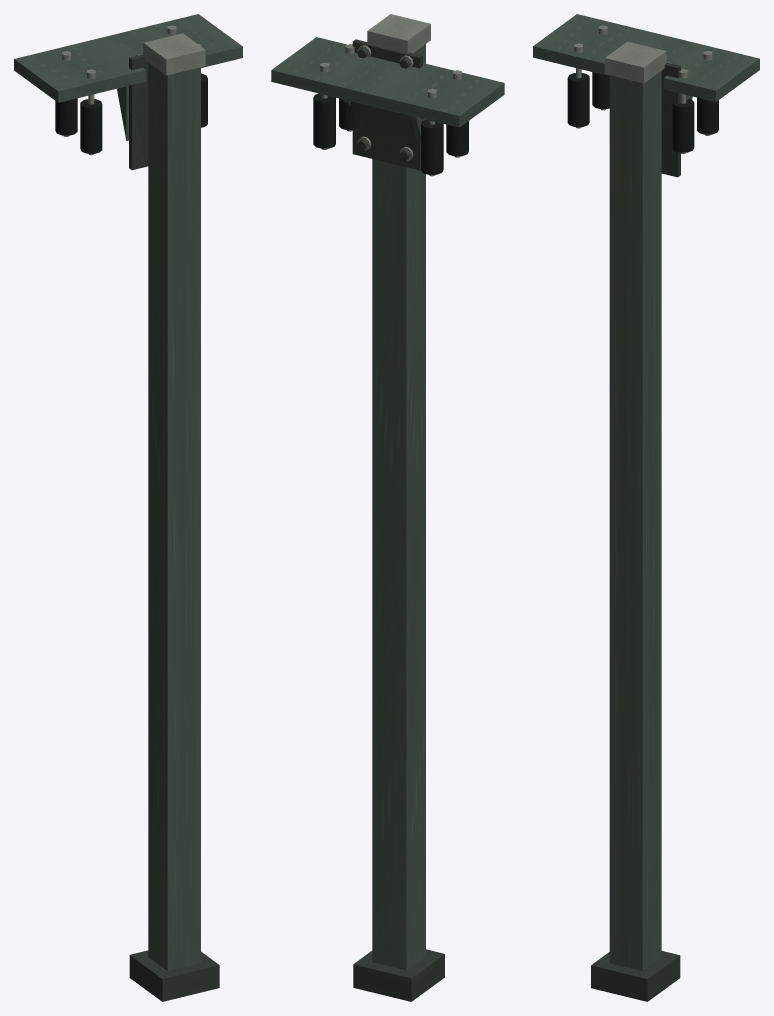
The model's file is SG_GuidePost.glb.
3 renders of one model, left to right at view 1: azimuth 30°, elevation 25°; view 2: azimuth 150°, elevation 25°; view 3: azimuth 330°, elevation 25°, orthographic. The views are drawn at different scales.
Parts seen in each view (by area): view 1: SG_Post_Right; view 2: SG_Post_Right; view 3: SG_Post_Right.
Boxes of the visible parts, x1,y1,x2,y2 form: SG_Post_Right: [14, 14, 242, 1001]; SG_Post_Right: [271, 14, 504, 1001]; SG_Post_Right: [533, 14, 759, 1001].
Size of the model in its own units: 0.42 by 2.04 by 0.265.
Materials: 1 (1 with a texture image).
